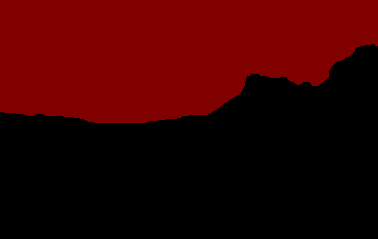Sky: (1, 1, 377, 122)
